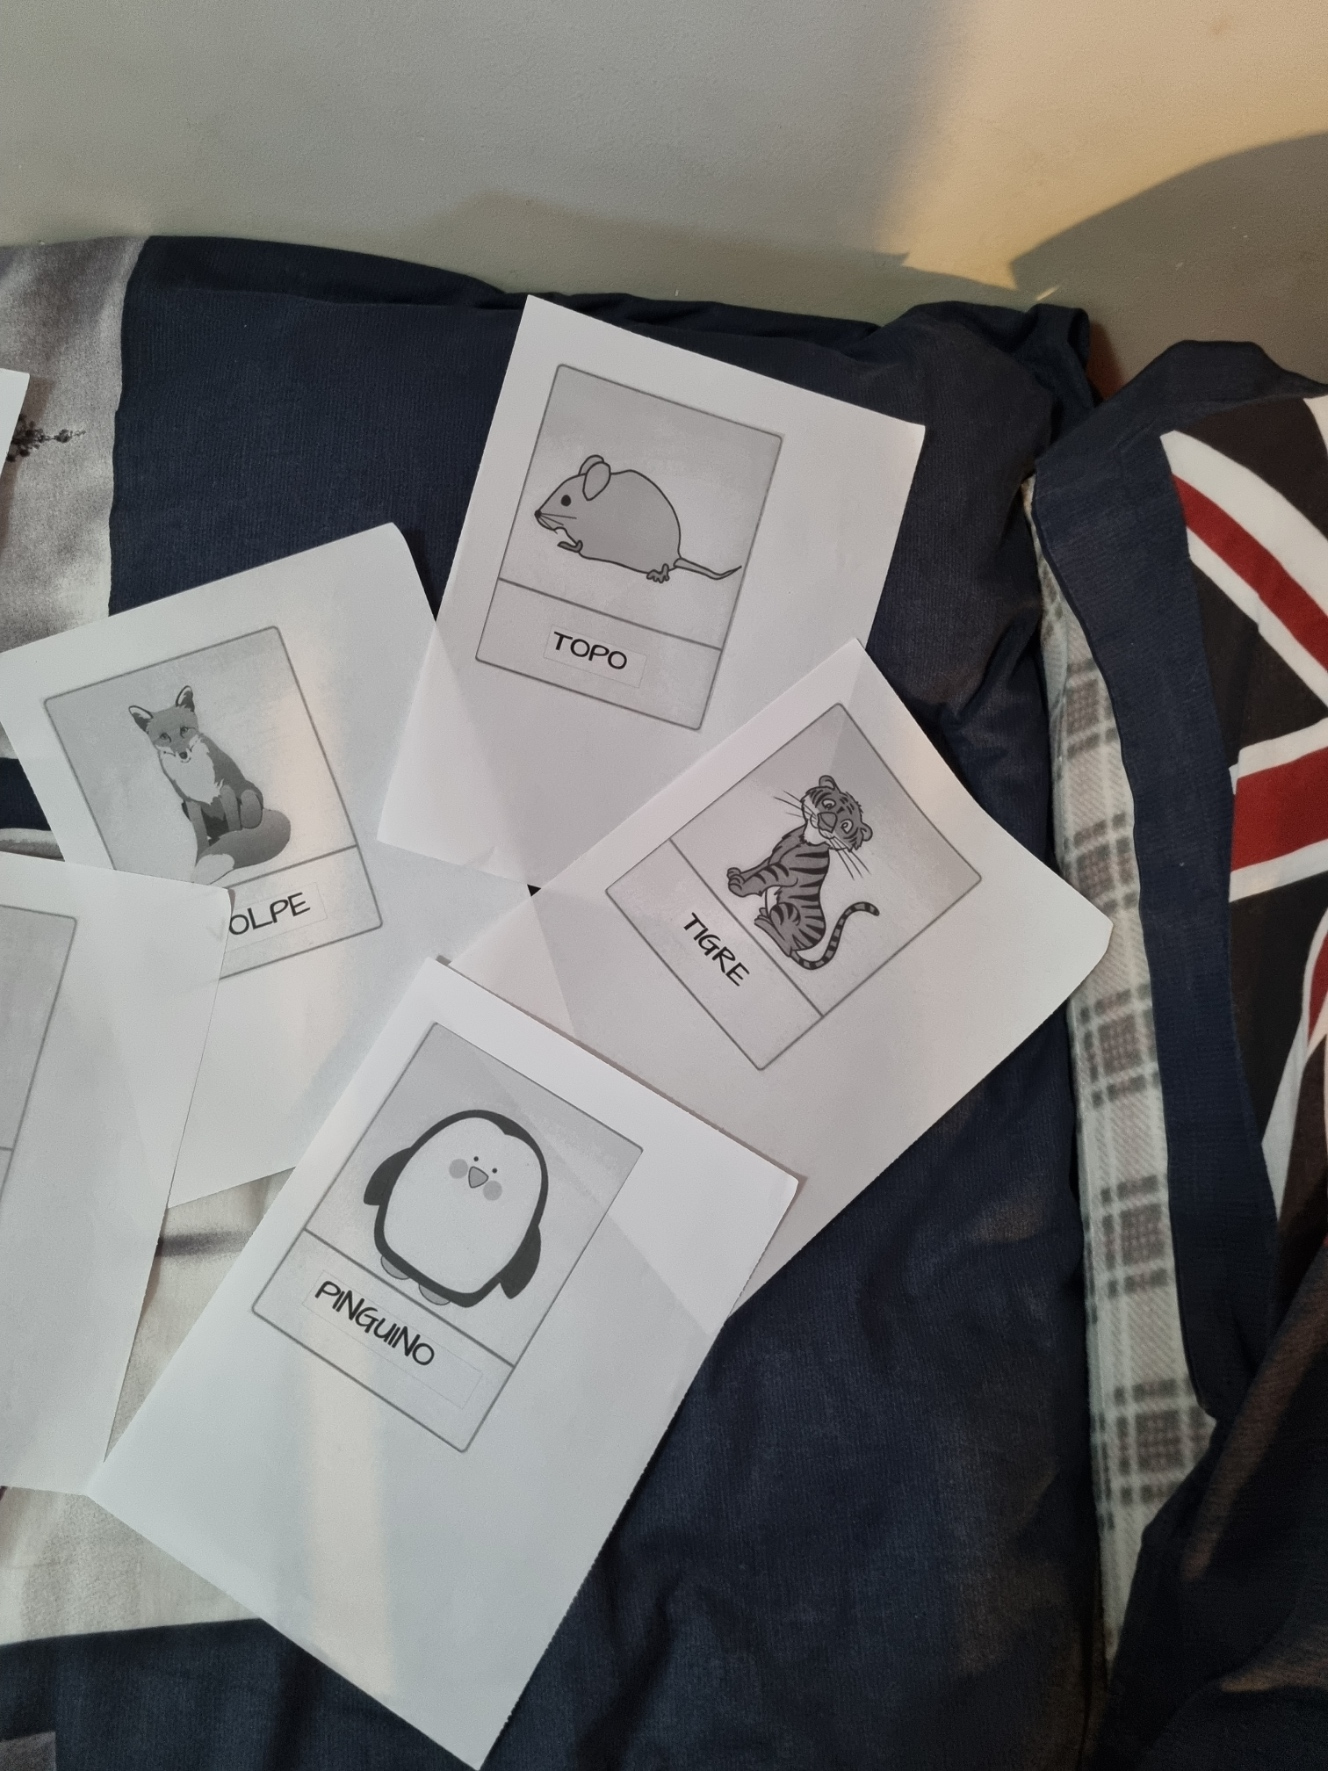pinguino: (286, 1097, 564, 1422)
tigre: (640, 756, 927, 1067)
topo: (516, 372, 760, 711)
volpe: (73, 671, 399, 969)
